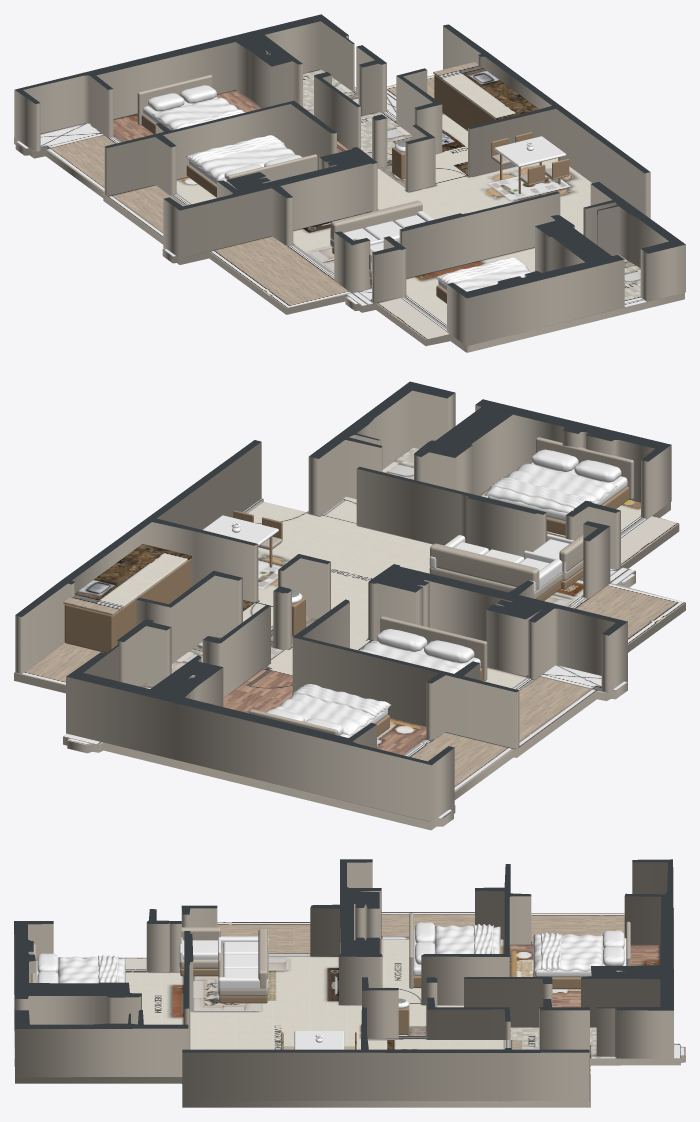
3 views of the same model, one above another, from view 1: azimuth 30°, elevation 25°; view 2: azimuth 150°, elevation 25°; view 3: azimuth 270°, elevation 25° (orthographic). The views are drawn at different scales.
Parts seen in each view (by area): view 1: Partition walls, Apartment floor, Stone worktop, Draped bed linen.002, Kitchen cabinets, Sofa back, Draped bed linen, Marble dining top, Upholstered headboard.001, Draped bed linen.003, Upholstered headboard, Draped bed linen.004 (+1 smaller); view 2: Partition walls, Apartment floor, Stone worktop, Kitchen cabinets, Draped bed linen.004, Sofa back, Draped bed linen, Upholstered headboard.001, Upholstered headboard.002, Draped bed linen.002, Marble dining top, Draped bed linen.001 (+7 smaller); view 3: Partition walls, Apartment floor, Draped bed linen, Stone worktop, Draped bed linen.002, Draped bed linen.004, Marble dining top, Draped bed linen.001, Padded armrest.001, Draped bed linen.003, Upholstered sofa frame, Sofa back (+11 smaller).
Part boxes in pixels (x1,y1,x2,y2): Partition walls: (14,14,685,346); Apartment floor: (14,69,684,352); Stone worktop: (433,62,538,119); Draped bed linen.002: (185,138,295,180); Kitchen cabinets: (434,75,496,130); Sofa back: (330,200,422,239); Draped bed linen: (152,97,237,130); Marble dining top: (494,136,566,167); Upholstered headboard.001: (227,154,317,181); Draped bed linen.003: (188,135,284,165); Upholstered headboard: (137,75,212,125); Draped bed linen.004: (435,260,531,291); Partition walls: (15,381,671,821); Apartment floor: (14,447,685,830); Stone worktop: (63,544,191,615); Kitchen cabinets: (64,559,190,652); Draped bed linen.004: (484,463,616,513); Sofa back: (430,543,539,589); Draped bed linen: (275,684,391,735); Upholstered headboard.001: (380,616,487,680); Upholstered headboard.002: (536,437,633,499); Draped bed linen.002: (358,642,466,673); Marble dining top: (203,515,278,545); Draped bed linen.001: (291,684,387,716); Partition walls: (14,859,673,1101); Apartment floor: (14,907,685,1107); Draped bed linen: (533,934,603,971); Stone worktop: (387,1040,521,1049); Draped bed linen.002: (434,925,500,953); Draped bed linen.004: (58,956,125,983); Marble dining top: (294,1031,344,1049); Draped bed linen.001: (540,932,562,970); Padded armrest.001: (218,977,268,989); Draped bed linen.003: (473,924,493,953); Upholstered sofa frame: (218,947,268,996); Sofa back: (258,928,267,988).
Size of the model in its own units: 9.92 by 1.3 by 14.41.
Materials: 10 (1 with a texture image).
